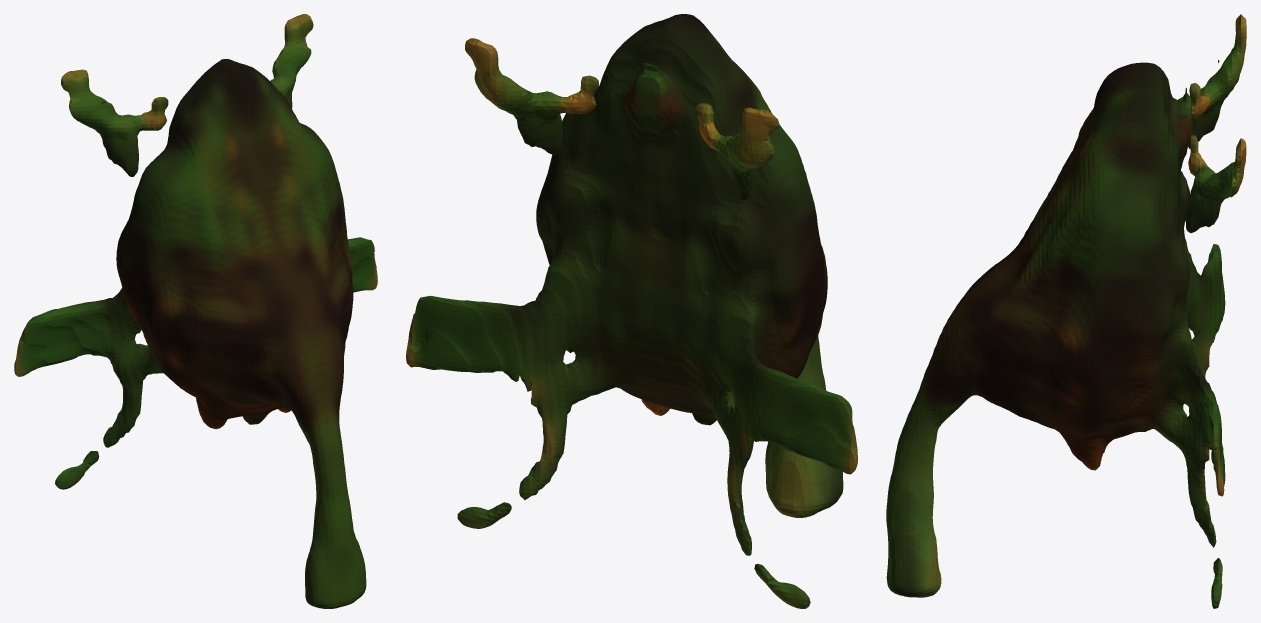
Rendered from a turtle bear that looks like a giraffe.fbx.
The picture shows the model from 3 angles, left to right: view 1: azimuth 30°, elevation 25°; view 2: azimuth 150°, elevation 25°; view 3: azimuth 270°, elevation 25°; orthographic projection. The views are drawn at different scales.
Parts seen in each view (by area): view 1: a turtle that looks like a giraffe_1; view 2: a turtle that looks like a giraffe_1; view 3: a turtle that looks like a giraffe_1.
Part boxes in pixels (x1,y1,x2,y2): a turtle that looks like a giraffe_1: (14,14,377,608); a turtle that looks like a giraffe_1: (406,14,857,608); a turtle that looks like a giraffe_1: (886,14,1246,608).
Size of the model in its own units: 160 by 198 by 123.
